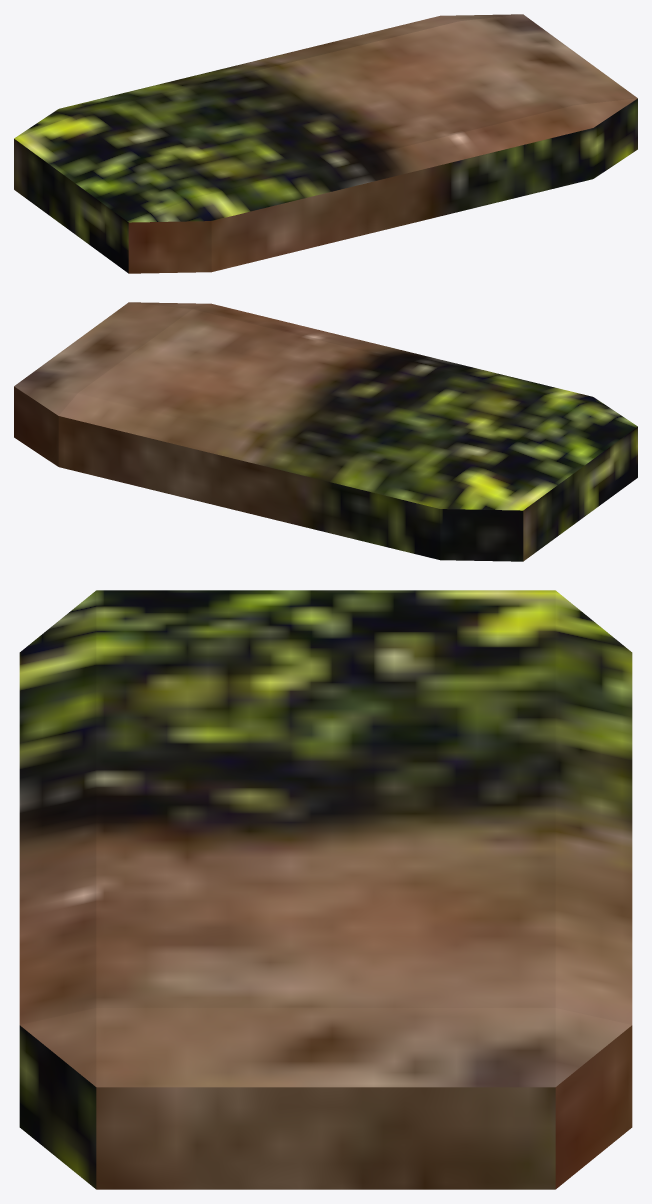
File: plat_3.fbx
3 renders of one model, top to bottom at view 1: azimuth 30°, elevation 25°; view 2: azimuth 150°, elevation 25°; view 3: azimuth 270°, elevation 25°, orthographic. The views are drawn at different scales.
Visible parts, largest first — view 1: Cube.001; view 2: Cube.001; view 3: Cube.001.
Boxes of the visible parts, x1=… form: Cube.001: x1=14, y1=14, x2=637, y2=273; Cube.001: x1=14, y1=302, x2=637, y2=561; Cube.001: x1=19, y1=590, x2=632, y2=1189.
Size of the model in its own units: 273 by 34.97 by 142.
Materials: 1 (1 with a texture image).
